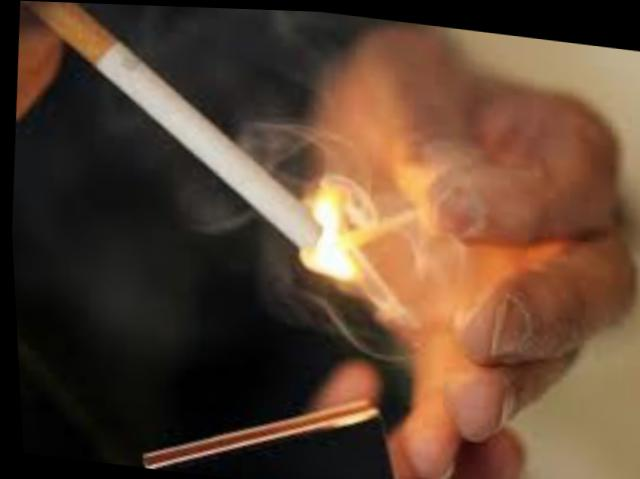fire: (276, 168, 370, 284)
